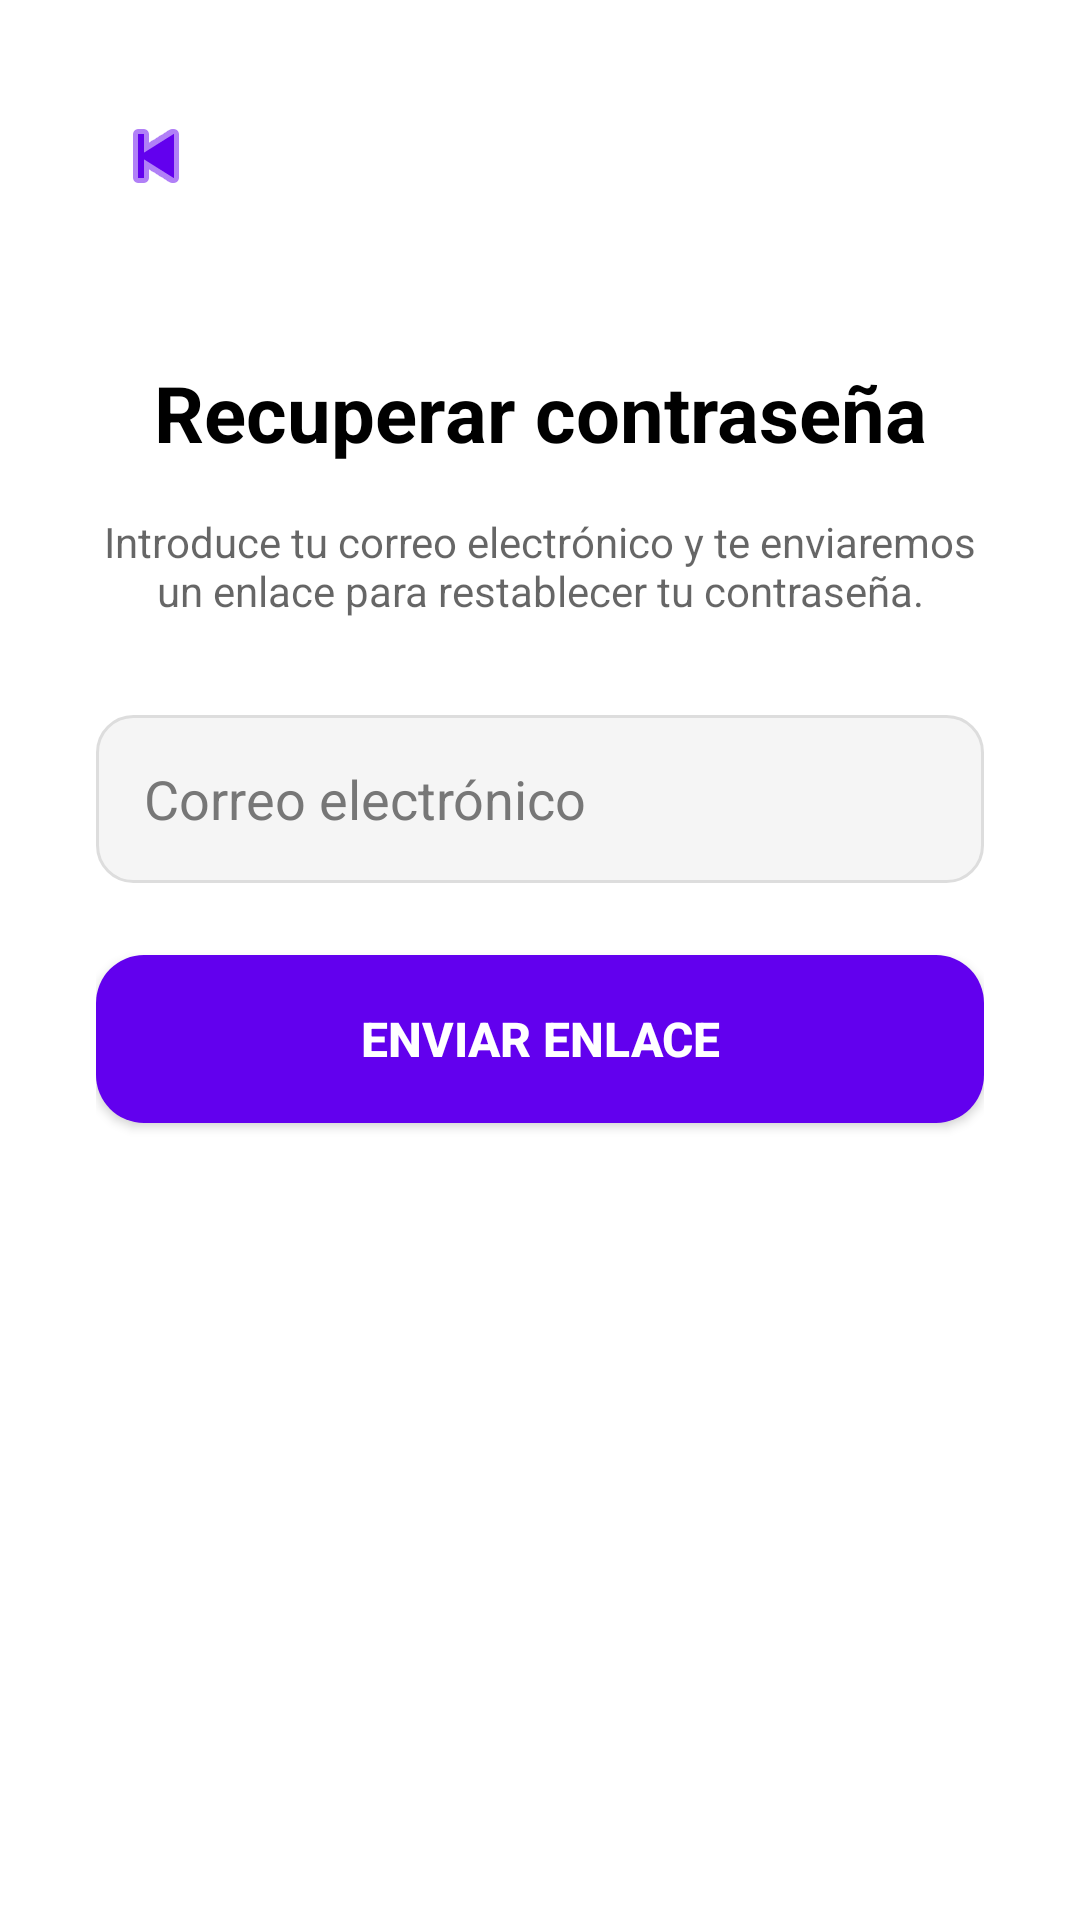

Where to tap for icons on this 1080 × 1920 app screen, as [x,y]:
Volver: [156,156]
